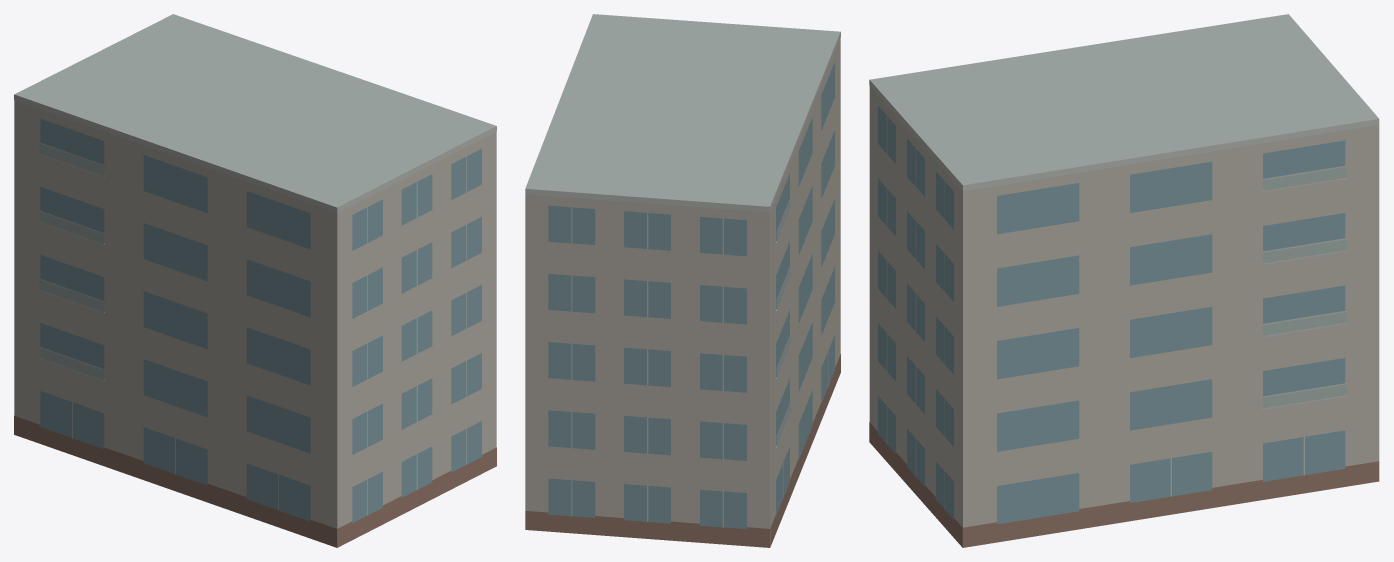
The model's file is survey-upis-32946304.glb.
3 renders of one model, left to right at view 1: azimuth 30°, elevation 25°; view 2: azimuth 150°, elevation 25°; view 3: azimuth 270°, elevation 25°, orthographic. The views are drawn at different scales.
Parts seen in each view (by area): view 1: survey-upis-32946304.tmp; view 2: survey-upis-32946304.tmp; view 3: survey-upis-32946304.tmp.
Part boxes in pixels (x1,y1,x2,y2): survey-upis-32946304.tmp: [14, 14, 496, 547]; survey-upis-32946304.tmp: [525, 14, 840, 547]; survey-upis-32946304.tmp: [869, 14, 1379, 547].
Bounding box in the file's own units: 15.11 × 14.9 × 19.
